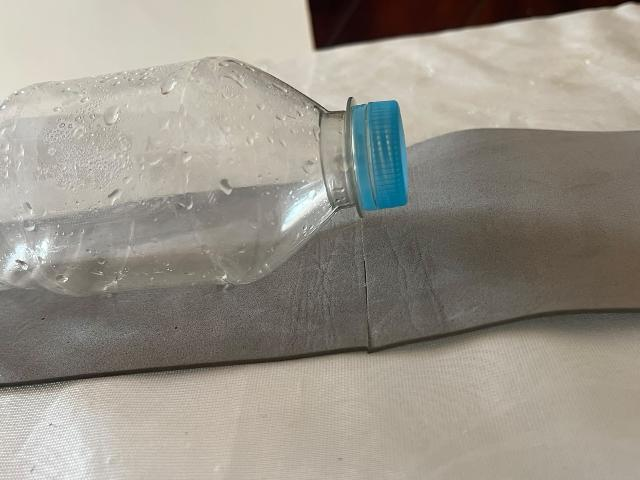PET: (0, 43, 453, 334)
